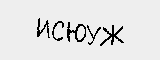Ж: (100, 23, 126, 46)
И: (35, 18, 51, 39)
С: (52, 18, 64, 41)
У: (86, 26, 100, 46)
Ю: (63, 22, 87, 44)
